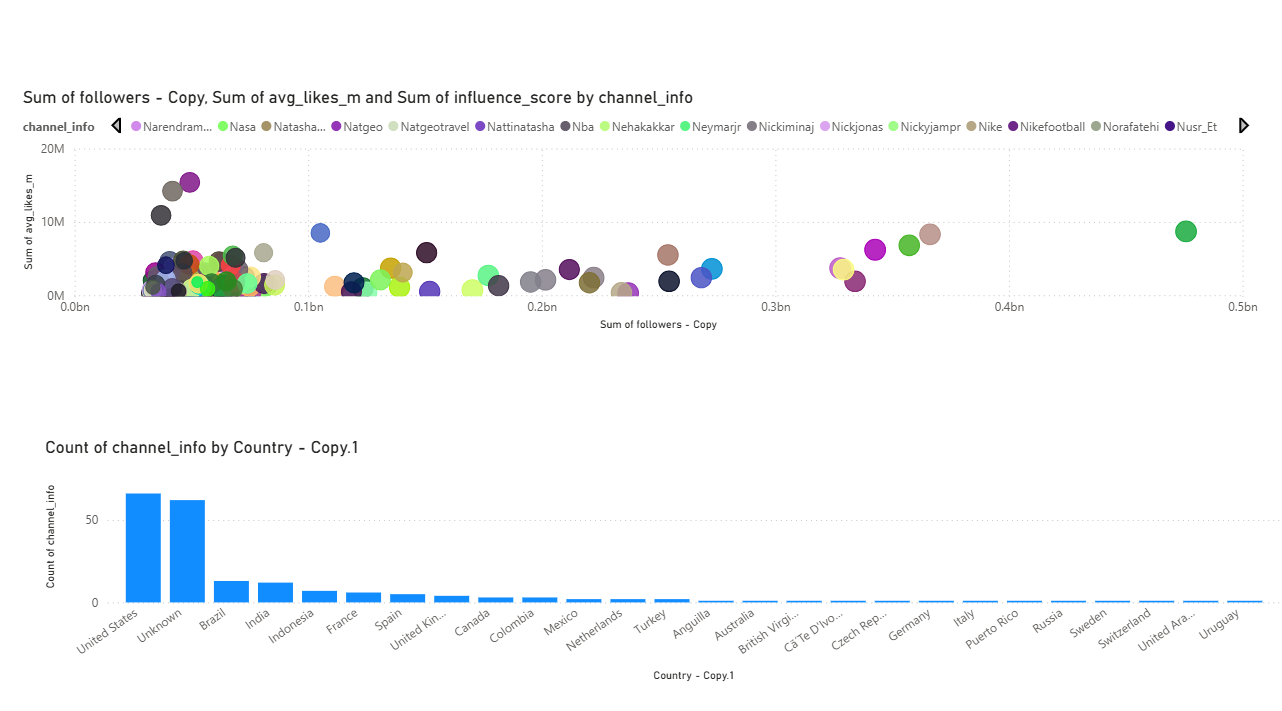

Layout of this report page (visuals, bound fields, positions):
{"tool":"powerbi","page":{"name":"Exploratory Data Analysis (EDA)","canvas":[1280,720],"ordinal":2},"visuals":[{"type":"scatterChart","fields":{"X":["top_insta_influencers_data.followers - Copy"],"Y":["top_insta_influencers_data.avg_likes_m"],"Series":["top_insta_influencers_data.channel_info"],"Size":["top_insta_influencers_data.influence_score"]},"box":[16,16,1240,248],"z":0},{"type":"columnChart","fields":{"Category":["top_insta_influencers_data.Country - Copy.1"],"Y":["top_insta_influencers_data.channel_info"]},"box":[16,280,1240,248],"z":1}]}

Visuals, with their boxes in screenshot pixels (x1, y1, x2, y2), scaled from the page's 1280x720 canvas onto the 1282x711 screenshot:
scatterChart - top_insta_influencers_data.followers - Copy x top_insta_influencers_data.avg_likes_m: [16,16,1258,261]
columnChart - top_insta_influencers_data.Country - Copy.1 x top_insta_influencers_data.channel_info: [16,276,1258,521]
